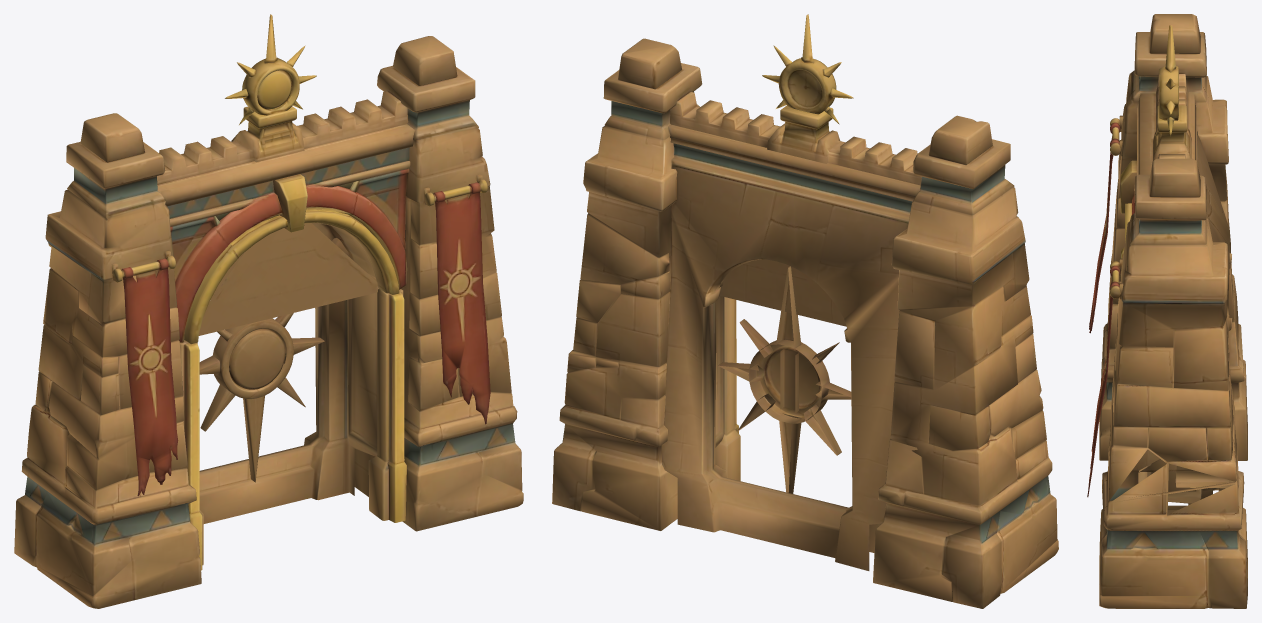
File: SM_Tripo_DesertPortalShrine.glb
The picture shows the model from 3 angles, left to right: view 1: azimuth 30°, elevation 25°; view 2: azimuth 150°, elevation 25°; view 3: azimuth 270°, elevation 25°; orthographic projection. The views are drawn at different scales.
Parts seen in each view (by area): view 1: SM_Tripo_DesertPortalShrine_LOD0; view 2: SM_Tripo_DesertPortalShrine_LOD0; view 3: SM_Tripo_DesertPortalShrine_LOD0.
Boxes of the visible parts, x1,y1,x2,y2 form: SM_Tripo_DesertPortalShrine_LOD0: (14, 14, 523, 608); SM_Tripo_DesertPortalShrine_LOD0: (552, 14, 1058, 608); SM_Tripo_DesertPortalShrine_LOD0: (1087, 14, 1247, 608).
Bounding box in the file's own units: 9.68 × 11 × 3.3.
1 material, 1 textured.
